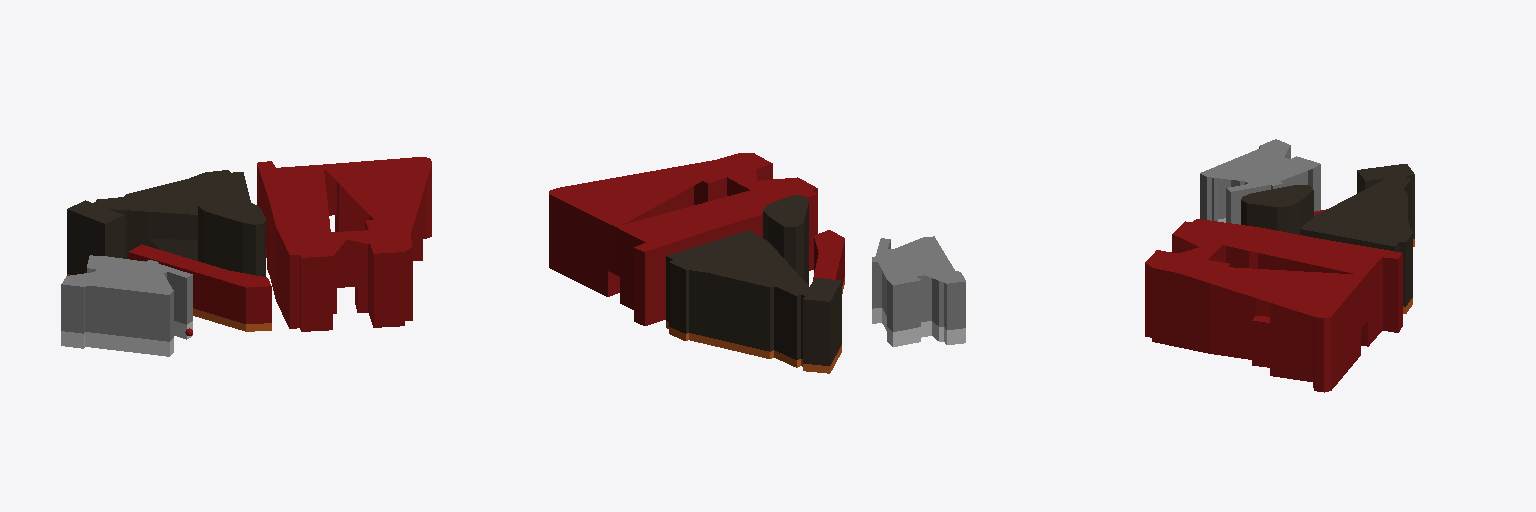
File: kth_campus.obj
3 views of the same model, side by side, from view 1: azimuth 30°, elevation 25°; view 2: azimuth 150°, elevation 25°; view 3: azimuth 270°, elevation 25° (orthographic).
Parts seen in each view (by area): view 1: map_3.osm_buildings; view 2: map_3.osm_buildings; view 3: map_3.osm_buildings.
Part boxes in pixels (left/top/right/bottom): map_3.osm_buildings: left=61, top=157, right=431, bottom=356; map_3.osm_buildings: left=549, top=153, right=965, bottom=373; map_3.osm_buildings: left=1145, top=139, right=1414, bottom=392.
Size of the model in its own units: 328 by 79.3 by 195.